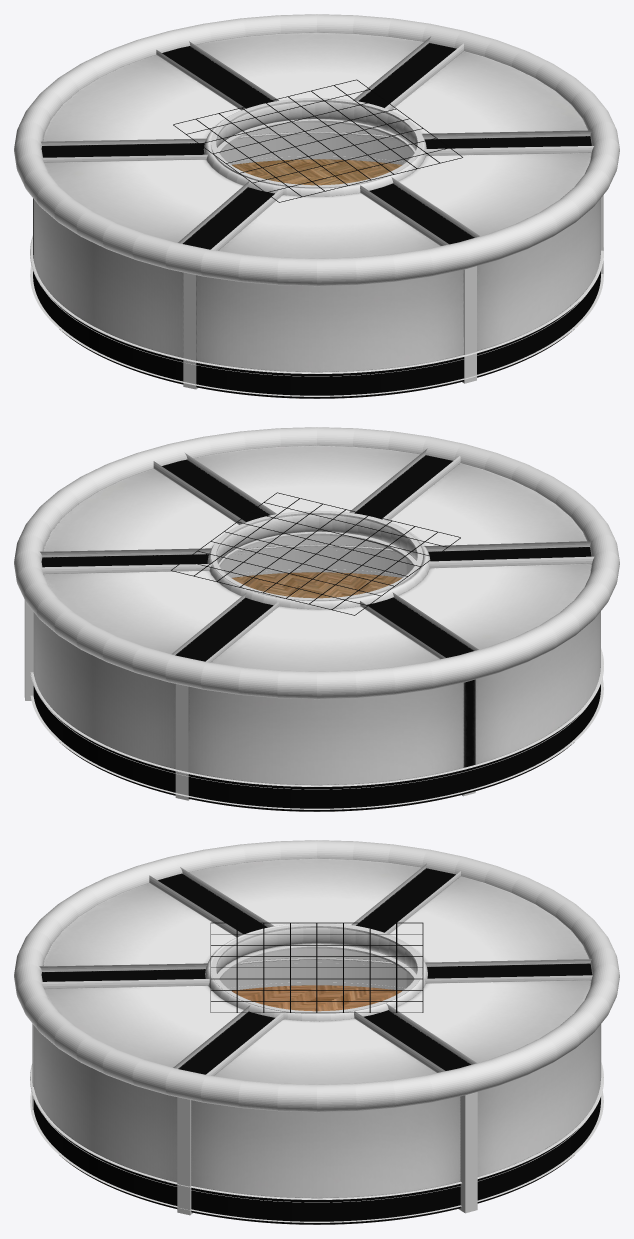
File: env-goethe.glb
The picture shows the model from 3 angles, top to bottom: view 1: azimuth 30°, elevation 25°; view 2: azimuth 150°, elevation 25°; view 3: azimuth 270°, elevation 25°; orthographic projection.
Visible parts, largest first — view 1: Circle.001, Circle.002, Torus.001, Torus, Circle.010, Plane.002, Circle.007, Circle.006, Cube.005, Cube.004, Cube.001, Circle (+5 smaller); view 2: Circle.001, Circle.002, Torus.001, Torus, Circle.010, Plane.002, Cube.006, Circle.007, Circle.006, Cube.002, Cube.004, Circle.005 (+5 smaller); view 3: Circle.001, Circle.002, Torus.001, Torus, Circle.010, Plane.002, Cube.006, Circle.007, Circle.006, Cube.001, Cube.005, Circle.005 (+5 smaller).
Part boxes in pixels (box(x1,y1,x2,y2)): Circle.001: box(41, 32, 591, 258); Circle.002: box(33, 122, 600, 398); Torus.001: box(14, 14, 619, 286); Torus: box(203, 102, 426, 196); Circle.010: box(30, 137, 603, 373); Plane.002: box(173, 79, 462, 202); Circle.007: box(63, 159, 577, 398); Circle.006: box(30, 132, 603, 376); Cube.005: box(360, 177, 479, 383); Cube.004: box(178, 181, 283, 389); Cube.001: box(422, 130, 603, 273); Circle: box(211, 97, 422, 188); Circle.001: box(41, 445, 591, 671); Circle.002: box(33, 535, 600, 811); Torus.001: box(14, 427, 619, 699); Torus: box(207, 511, 430, 609); Circle.010: box(30, 550, 603, 786); Plane.002: box(171, 492, 460, 615); Cube.006: box(24, 548, 212, 700); Circle.007: box(56, 572, 570, 811); Circle.006: box(30, 545, 603, 789); Cube.002: box(171, 593, 279, 800); Cube.004: box(423, 541, 594, 568); Circle.005: box(30, 569, 603, 811); Circle.001: box(41, 858, 592, 1084); Circle.002: box(33, 943, 600, 1224); Torus.001: box(14, 840, 619, 1112); Torus: box(205, 923, 427, 1021); Circle.010: box(30, 963, 603, 1199); Plane.002: box(210, 922, 423, 1012); Cube.006: box(354, 1003, 477, 1213); Circle.007: box(96, 985, 537, 1224); Circle.006: box(30, 958, 603, 1202); Cube.001: box(173, 1005, 283, 1215); Cube.005: box(32, 963, 209, 1110); Circle.005: box(30, 982, 603, 1224).
Size of the model in its own units: 13.68 by 3.57 by 13.68.
12 materials, 3 textured.
